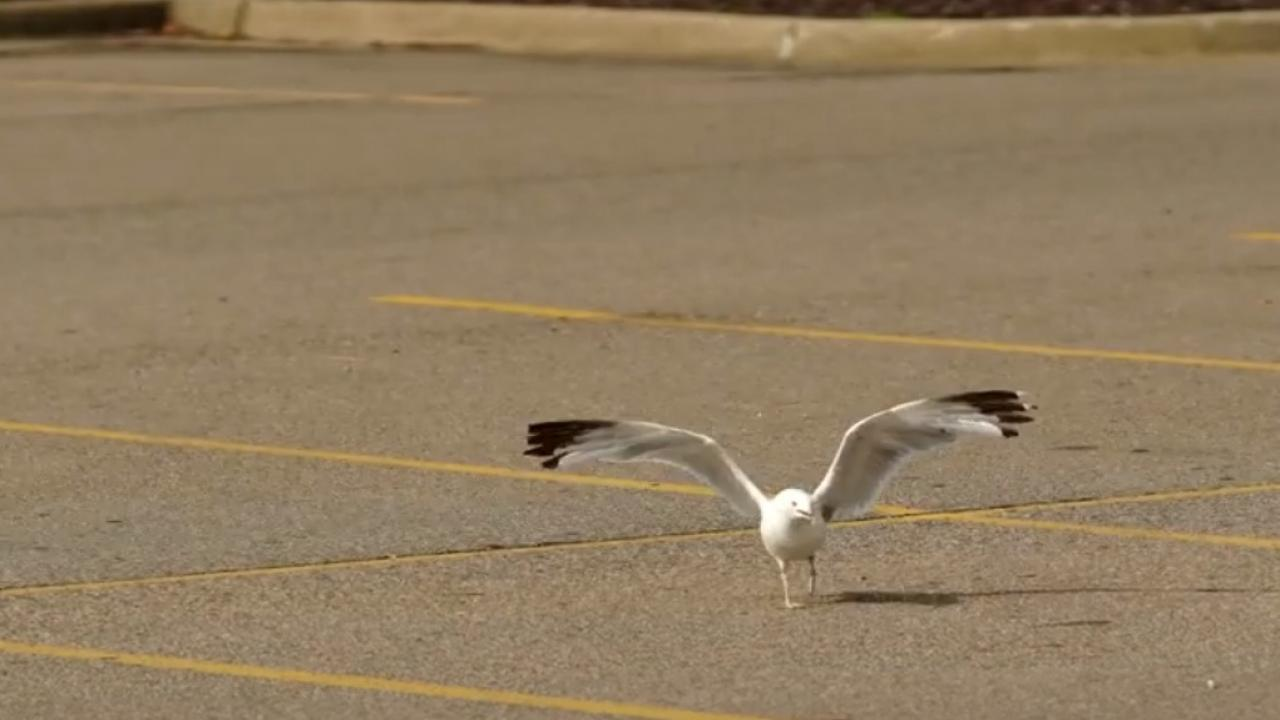Bird: (517, 381, 1050, 621)
